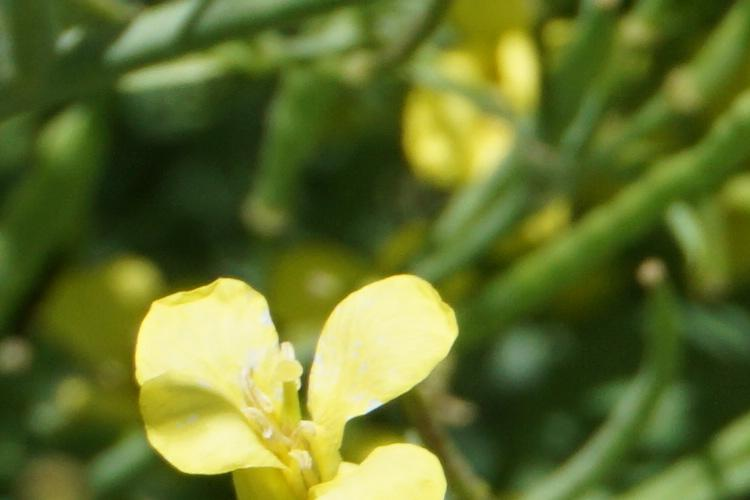yellow: (99, 265, 481, 491)
